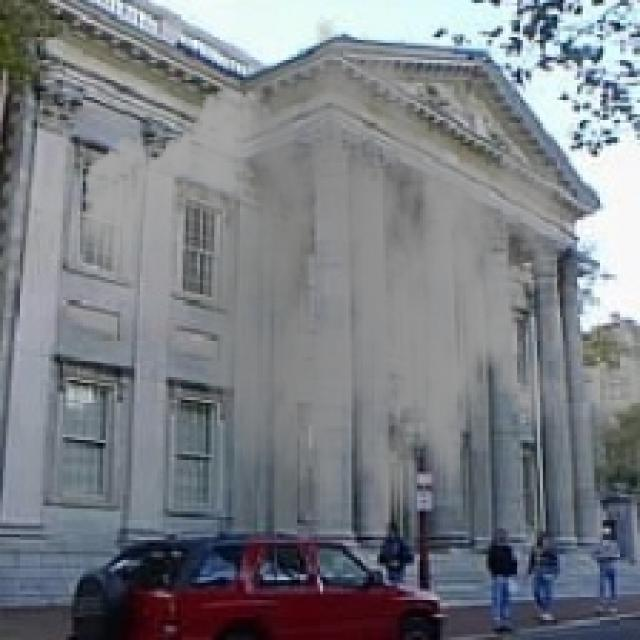Smoke: (57, 17, 572, 580)
